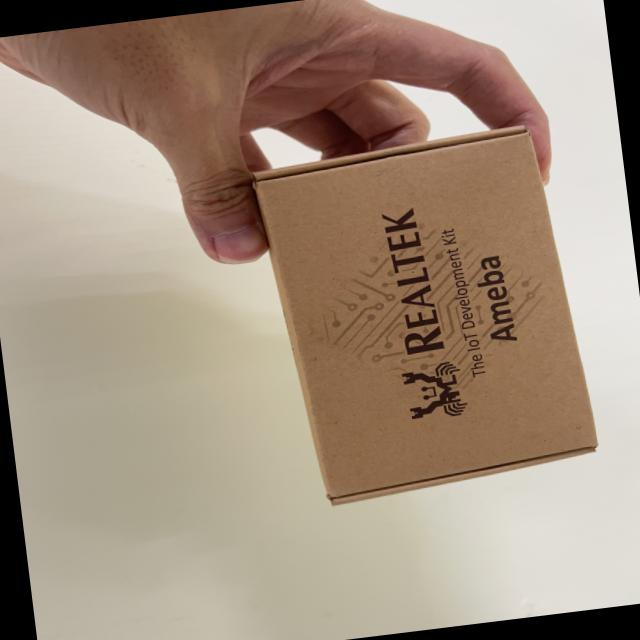box: (233, 111, 622, 526)
